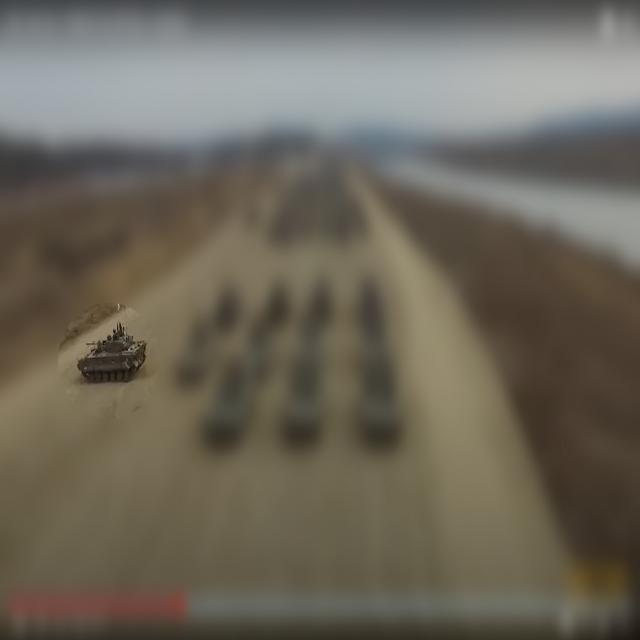tank: (77, 324, 148, 389)
